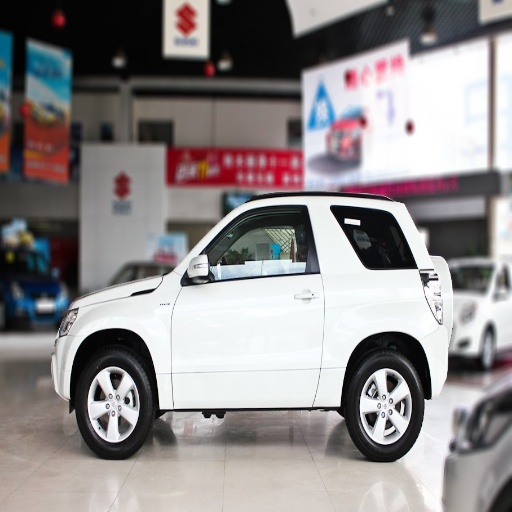back_glass: (351, 209, 405, 267)
front_left_door: (172, 209, 320, 403)
trunk: (328, 279, 453, 381)
